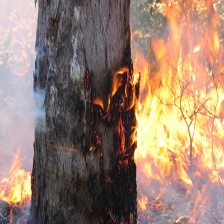fire: (106, 6, 224, 218), (1, 150, 30, 210)
smoke: (1, 1, 50, 160)
